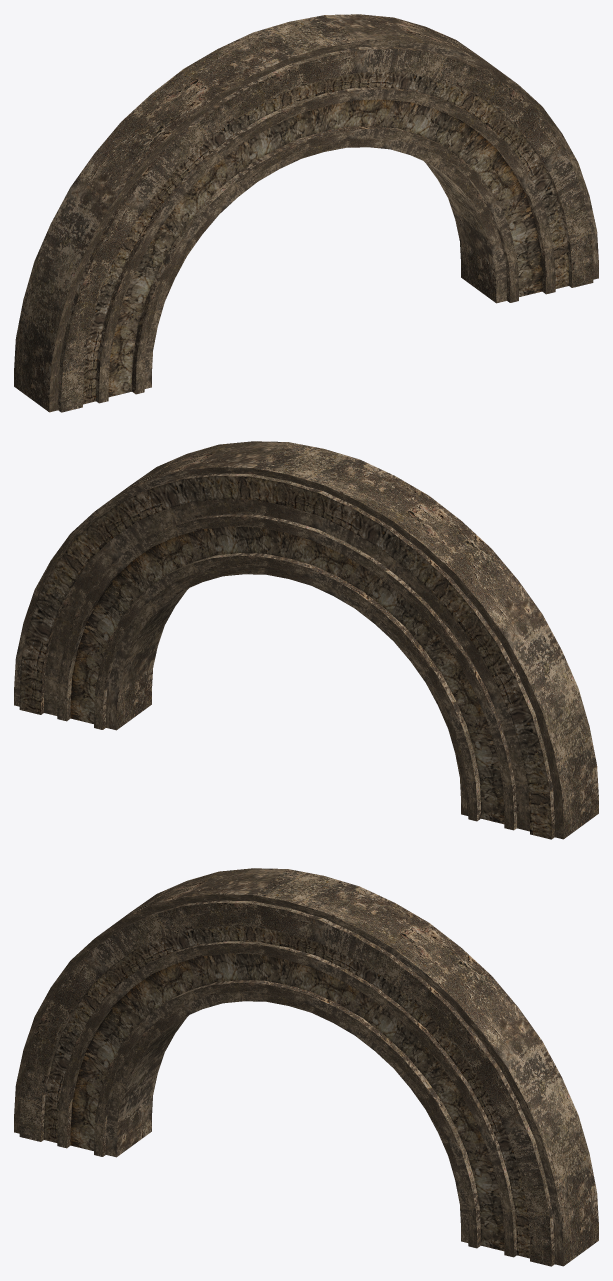
Rendered from materials_5_arch_3.fbx.
3 views of the same model, one above another, from view 1: azimuth 30°, elevation 25°; view 2: azimuth 150°, elevation 25°; view 3: azimuth 330°, elevation 25° (orthographic).
Parts seen in each view (by area): view 1: materials_5_arch_3; view 2: materials_5_arch_3; view 3: materials_5_arch_3.
Part boxes in pixels (x1,y1,x2,y2): materials_5_arch_3: (14, 14, 598, 412); materials_5_arch_3: (14, 441, 598, 839); materials_5_arch_3: (14, 868, 598, 1266).
Bounding box in the file's own units: 167 × 86.32 × 21.98.
